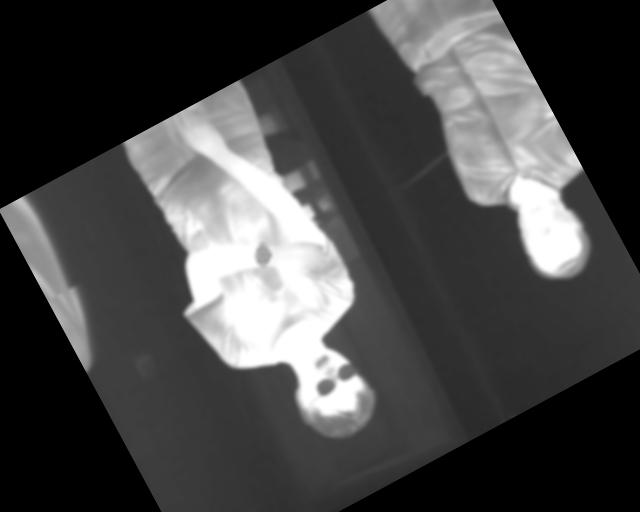face: (274, 330, 390, 454), (501, 177, 605, 293)
